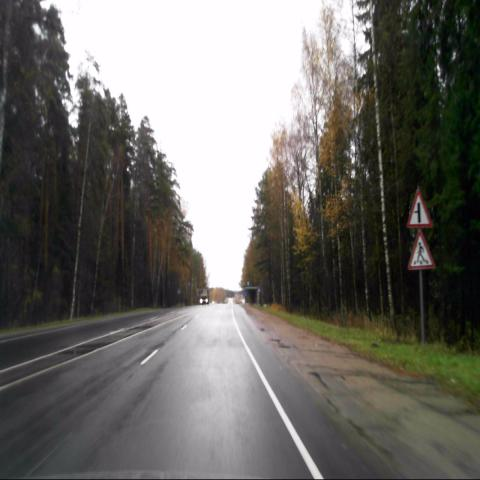1_22: (407, 226, 436, 270)
